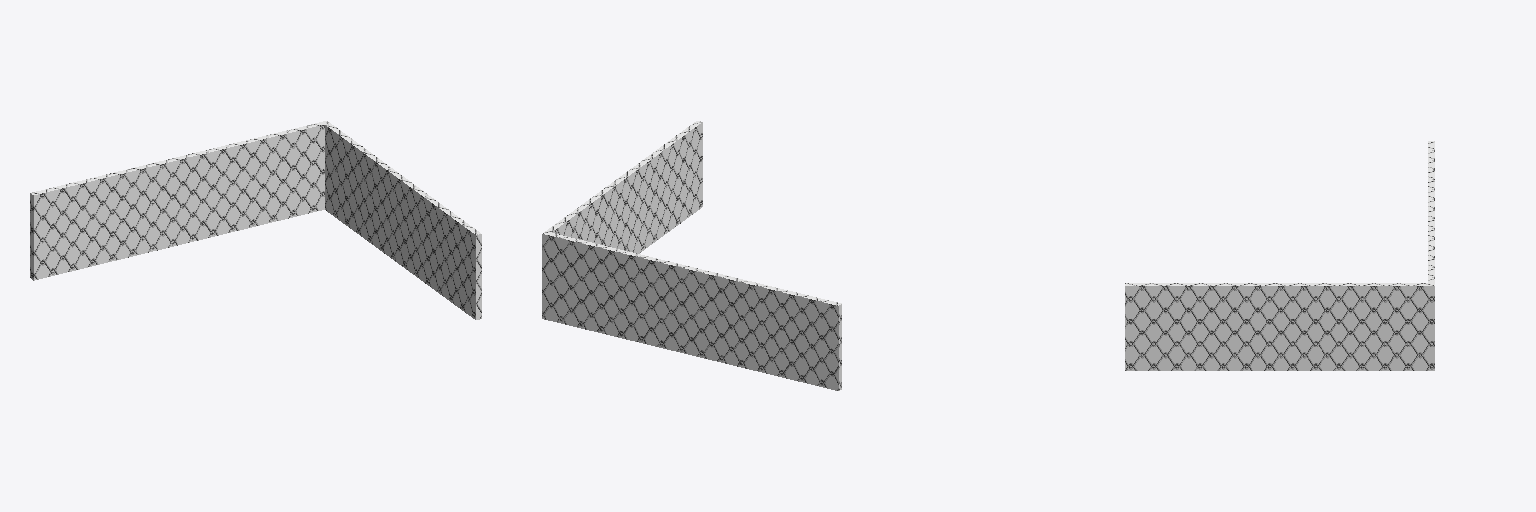
3 views of the same model, side by side, from view 1: azimuth 30°, elevation 25°; view 2: azimuth 150°, elevation 25°; view 3: azimuth 270°, elevation 25° (orthographic).
Parts seen in each view (by area): view 1: |wall|Root|color; view 2: |wall|Root|color; view 3: |wall|Root|color.
Boxes of the visible parts, x1=… form: |wall|Root|color: x1=30, y1=121, x2=481, y2=319; |wall|Root|color: x1=542, y1=121, x2=841, y2=390; |wall|Root|color: x1=1125, y1=141, x2=1434, y2=370.
Size of the model in its own units: 0.51 by 0.14 by 0.46.
Materials: 1 (1 with a texture image).